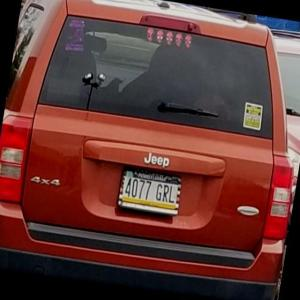Plate: (116, 167, 182, 215)
